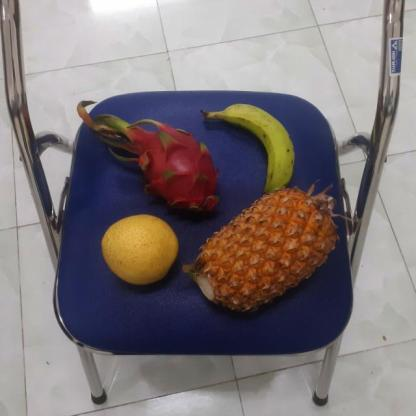banana: (215, 101, 299, 197)
pear: (98, 213, 182, 284)
pineapple: (193, 189, 341, 312)
pitaya: (130, 124, 223, 218)
